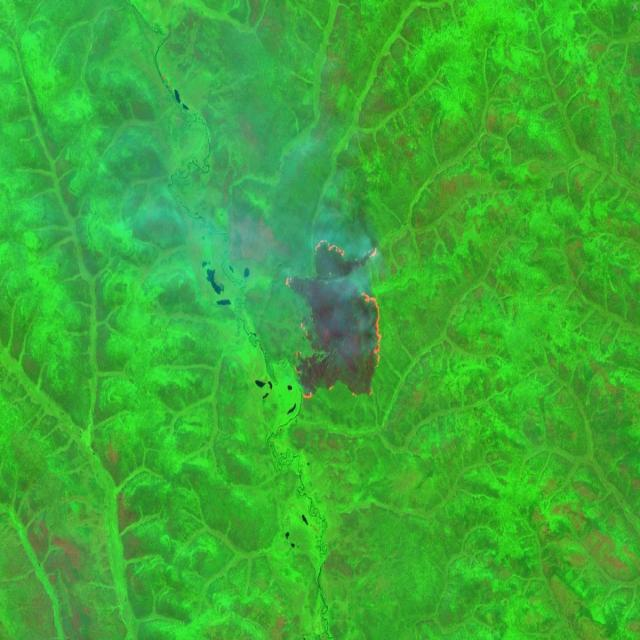fire: (283, 234, 386, 402)
